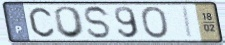9: (112, 6, 140, 40)
C: (27, 6, 56, 38)
I: (182, 5, 195, 40)
O: (53, 5, 87, 40), (139, 5, 171, 40)
S: (83, 5, 113, 41)
